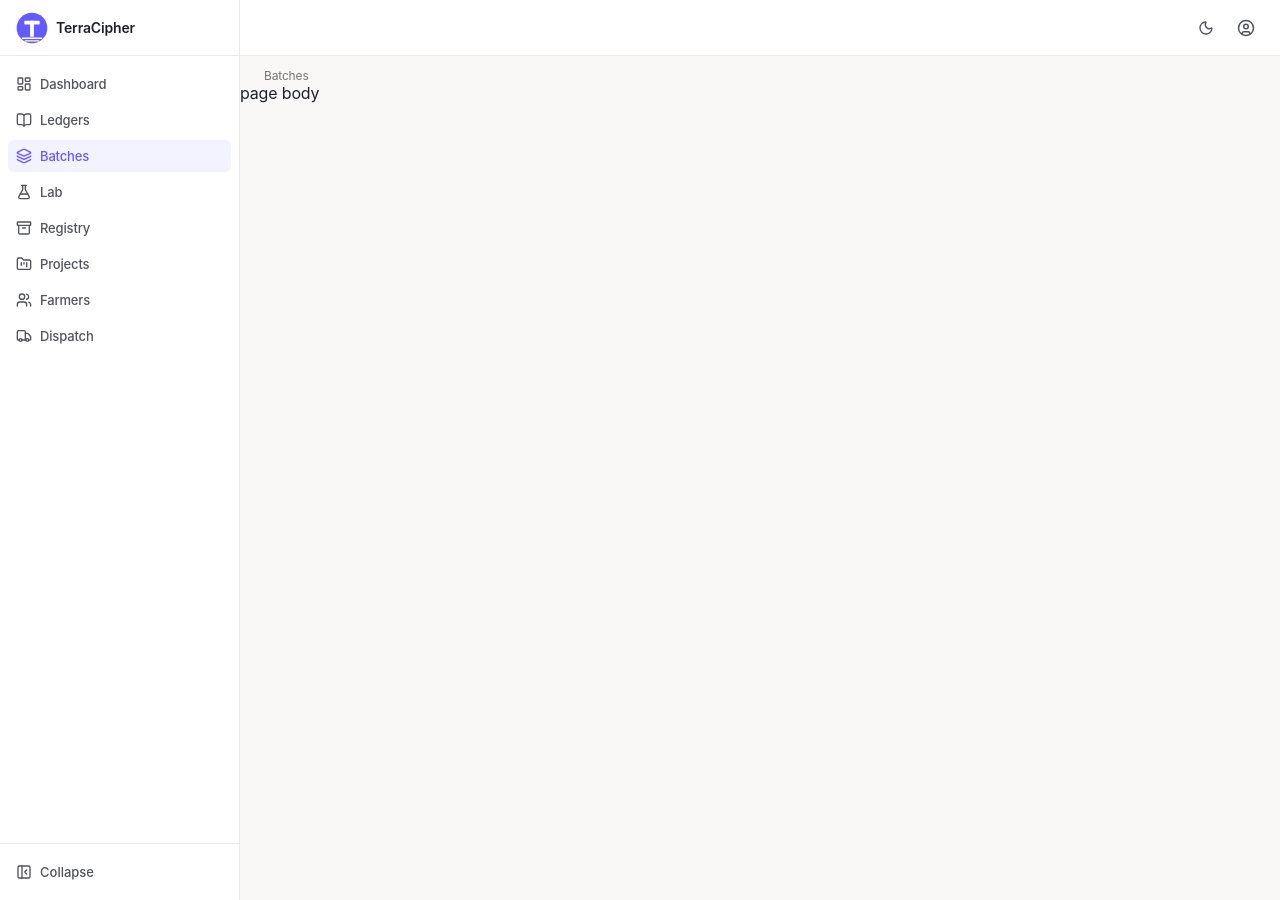
Test: AppShell › account menu closes on Escape without navigating away
The image size is (1280, 900).
Press the mouse on the button named "Account menu" at (1246, 28), box [1228,10,1264,46]
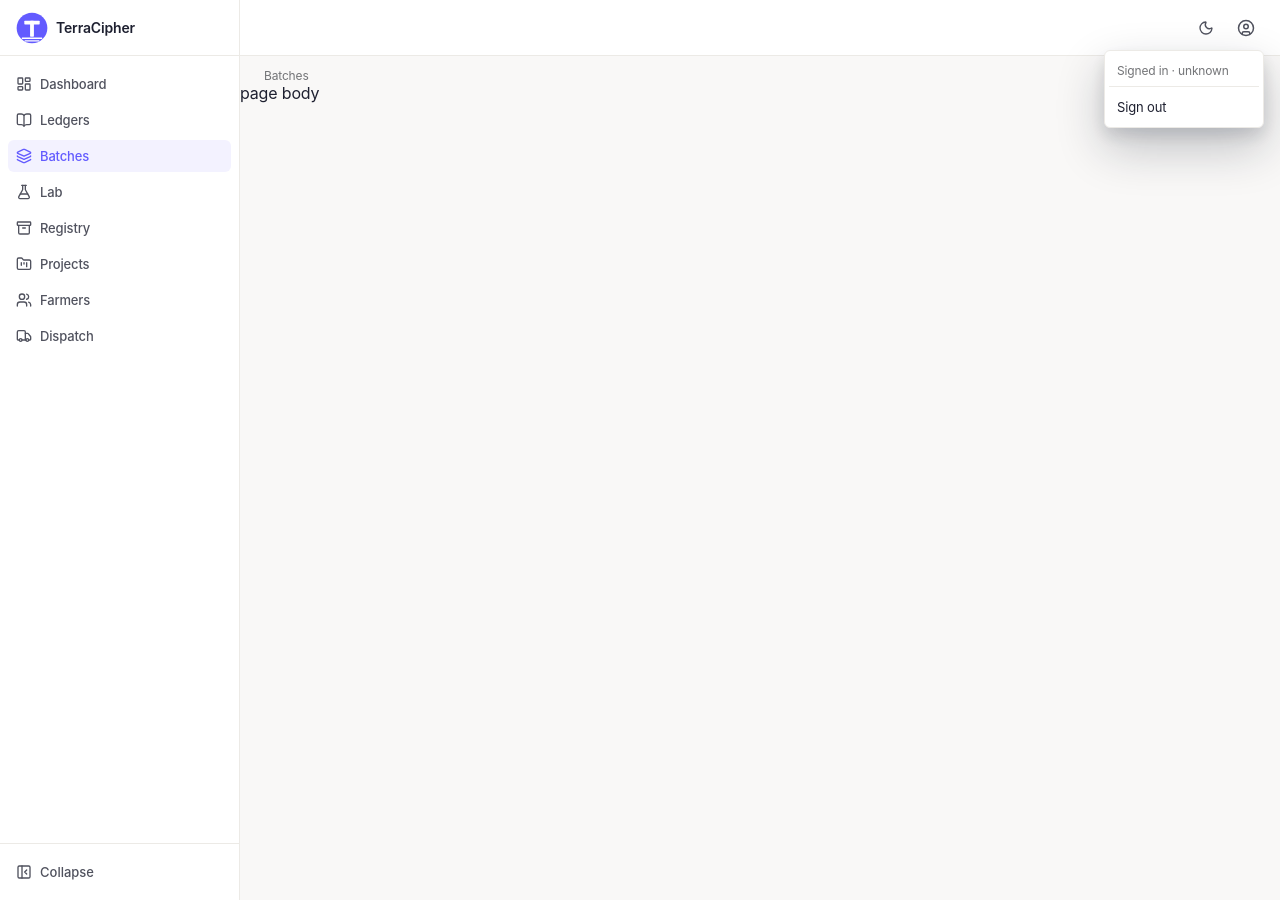
expect the menu item "Sign out" is shown: met, box [1117,99,1166,115]
Press Escape in the menu, box [1104,50,1264,128]
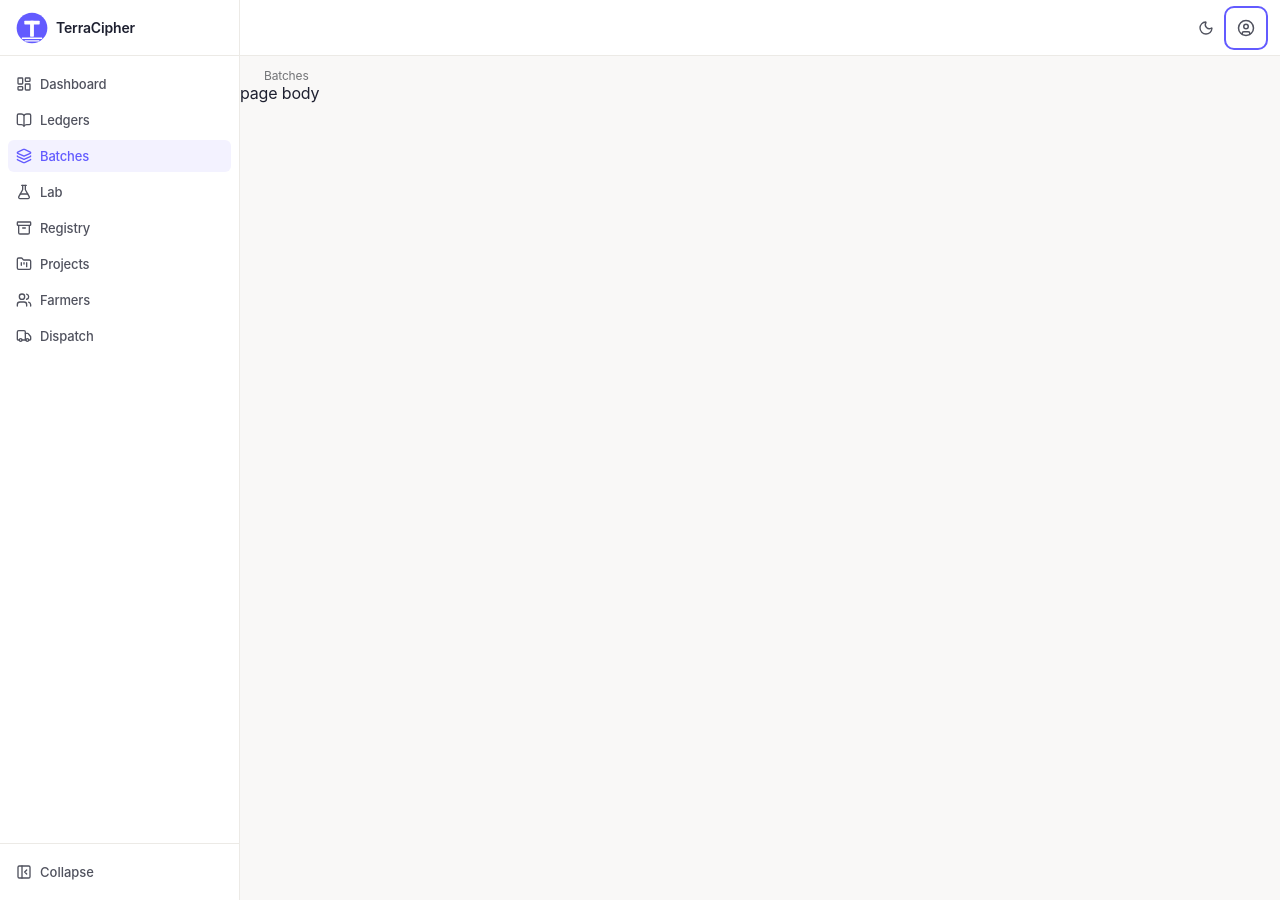
expect the menu item "Sign out" is gone: met
